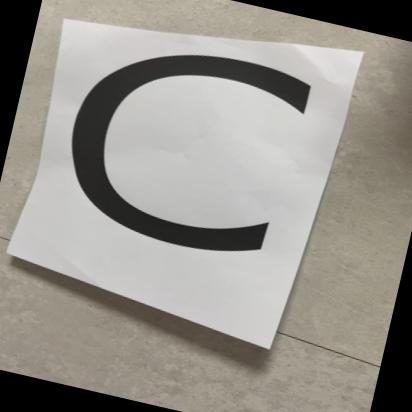seat: (0, 0, 372, 380)
